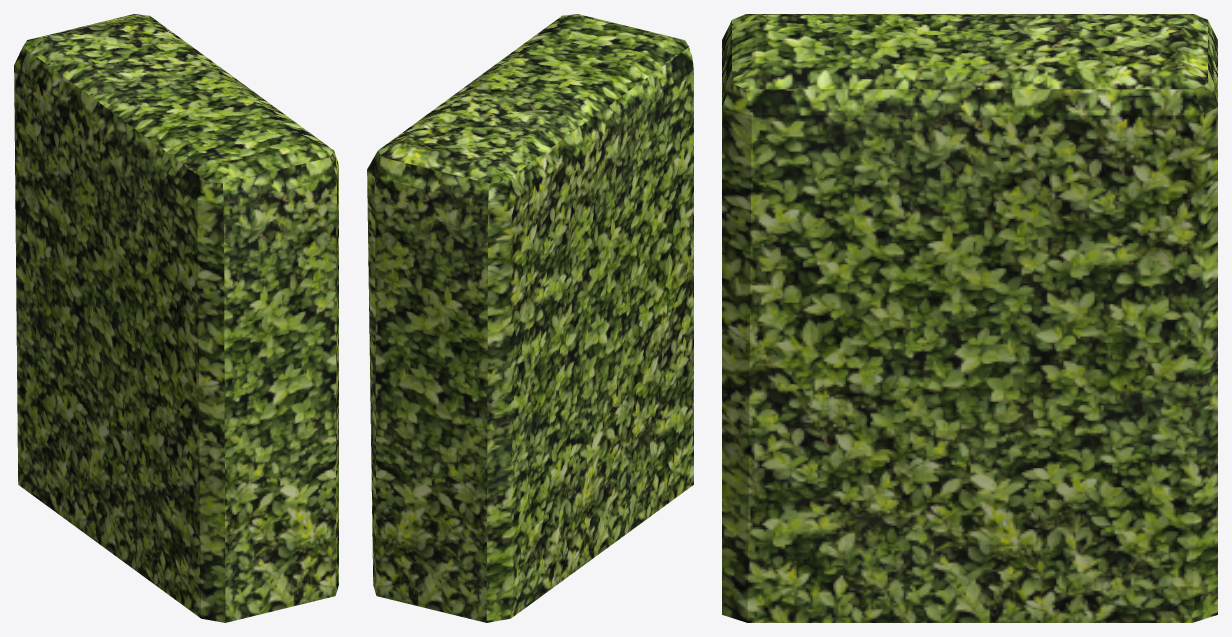
The model's file is hedge_2x5x6.fbx.
The picture shows the model from 3 angles, left to right: view 1: azimuth 30°, elevation 25°; view 2: azimuth 150°, elevation 25°; view 3: azimuth 270°, elevation 25°; orthographic projection. The views are drawn at different scales.
Parts seen in each view (by area): view 1: Cube; view 2: Cube; view 3: Cube.
Part boxes in pixels (left/top/right/bottom): Cube: left=14, top=14, right=338, bottom=622; Cube: left=367, top=14, right=693, bottom=622; Cube: left=722, top=14, right=1217, bottom=622.
Bounding box in the file's own units: 200 × 600 × 500.
